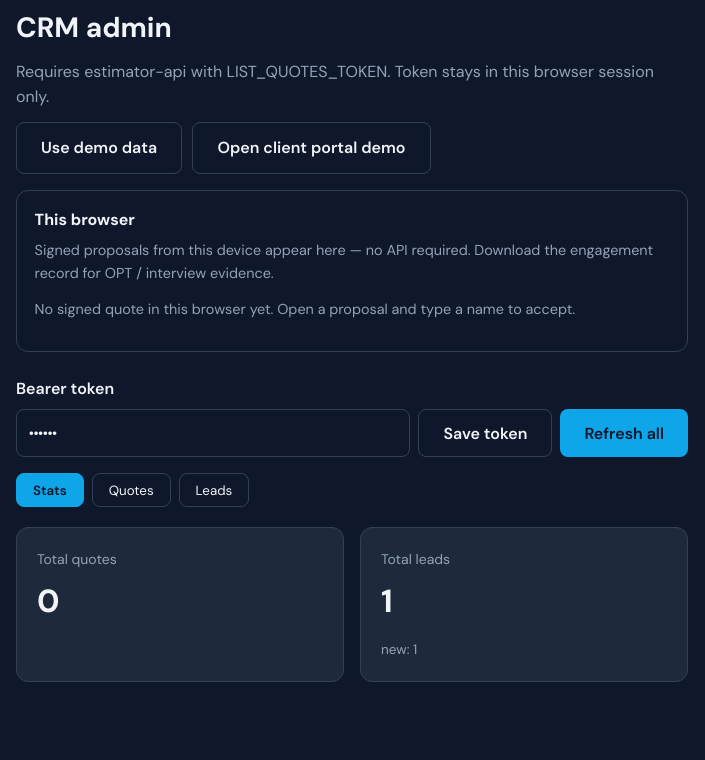
Test case: CrmAdmin › reports a failed lead status update and a typed refresh error
The image size is (705, 760).
Click the tab "Leads" at (214, 490), box left=179, top=474, right=249, bottom=507
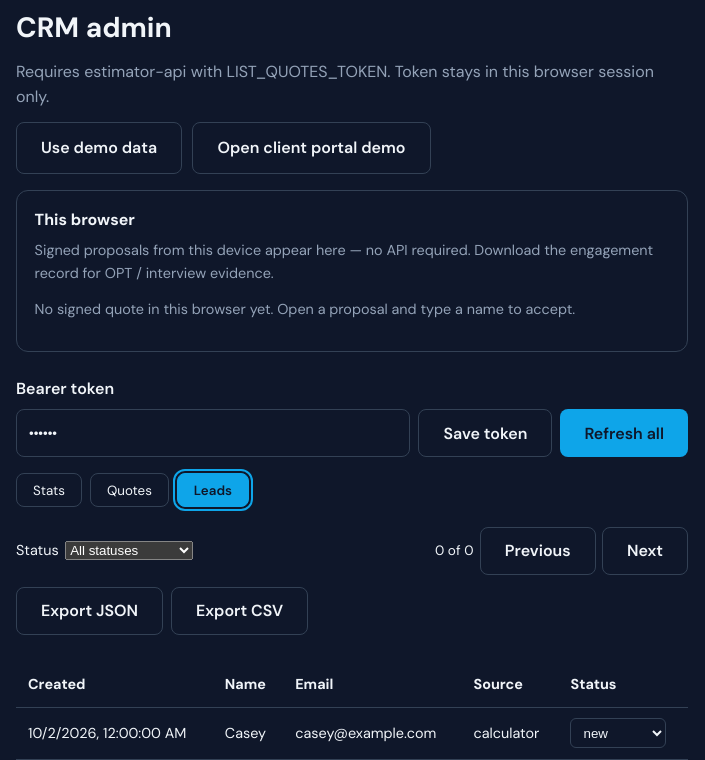
Select "qualified" in the dropdown named "bbbbbbbb-bbbb-4bbb-8bbb-bbbbbbbbbbbb" at (618, 733), box left=570, top=718, right=666, bottom=748
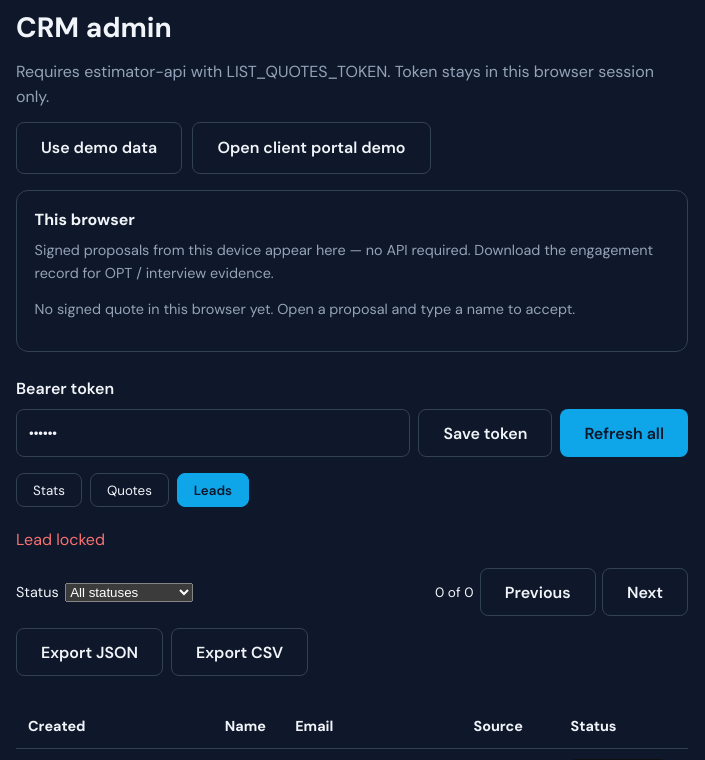
Expected: the message reads "Lead locked", left=16, top=529, right=105, bottom=550
Click the button "Refresh all" at (624, 434), box left=560, top=410, right=688, bottom=458
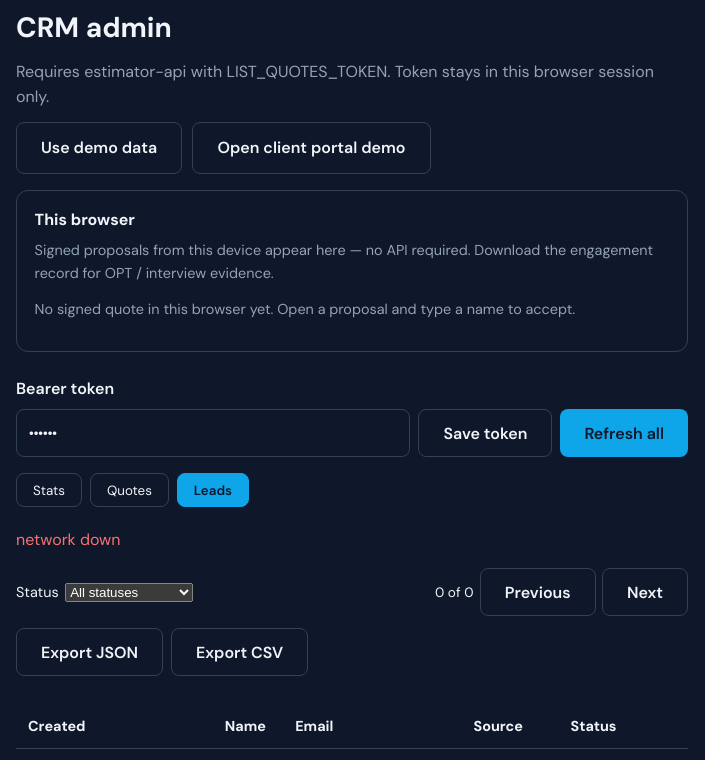
Expected: the message reads "network down", left=16, top=529, right=120, bottom=550
